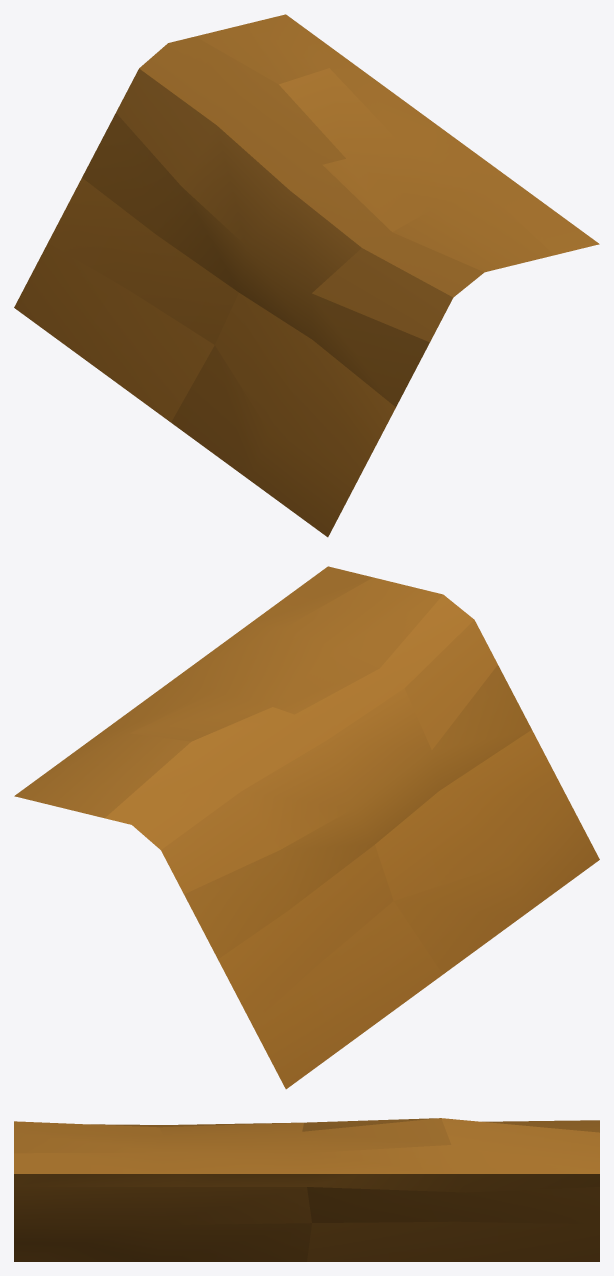
The model's file is cGround_B_Side_2_.obj.
3 renders of one model, top to bottom at view 1: azimuth 30°, elevation 25°; view 2: azimuth 150°, elevation 25°; view 3: azimuth 270°, elevation 25°, orthographic. The views are drawn at different scales.
Visible parts, largest first — view 1: cGround_B_Side_2_; view 2: cGround_B_Side_2_; view 3: cGround_B_Side_2_.
Part boxes in pixels (x1,y1,x2,y2): cGround_B_Side_2_: (14, 14, 599, 537); cGround_B_Side_2_: (14, 566, 599, 1089); cGround_B_Side_2_: (14, 1118, 599, 1261).
Size of the model in its own units: 4 by 3.4 by 8.
